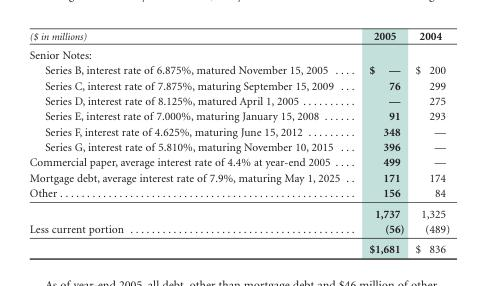table: (28, 29, 449, 255)
table column: (28, 29, 353, 255), (353, 29, 409, 255), (409, 29, 449, 255)
table column header: (28, 29, 449, 45)
table projected row header: (28, 45, 449, 62)
table row: (28, 202, 449, 220), (28, 220, 449, 238), (28, 45, 449, 62), (28, 185, 449, 202), (28, 238, 449, 255), (28, 29, 449, 45), (28, 77, 449, 93), (28, 123, 449, 139), (28, 169, 449, 185), (28, 62, 449, 77), (28, 93, 449, 108), (28, 108, 449, 123), (28, 139, 449, 154), (28, 154, 449, 169)
